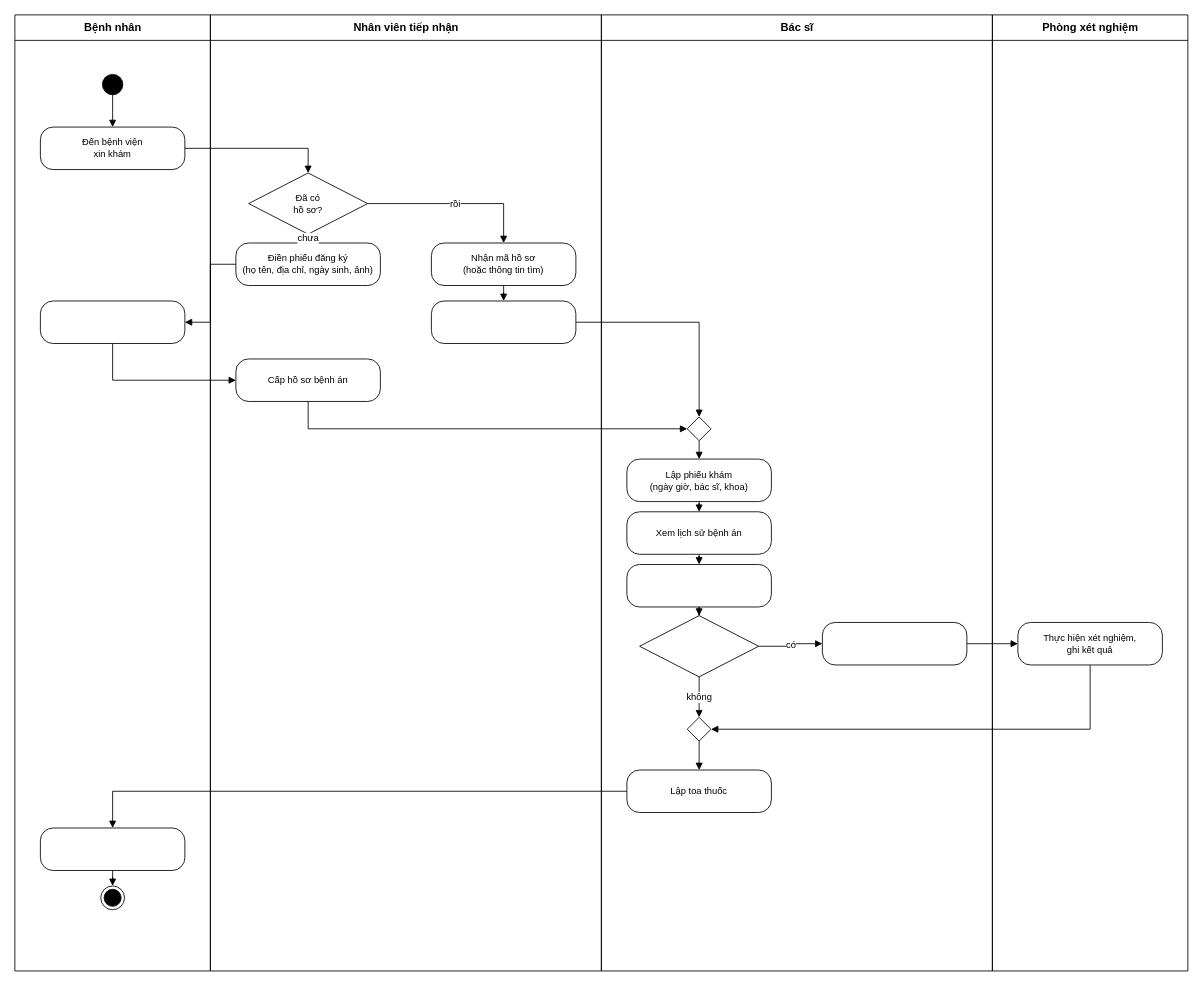
Some shapes in this 1203 by 986 pixel diagram are drawn without their labels. Here are the shapes that lost their labels. From the top down, the centre of each, then its label:
At point 112,321: "Đóng lệ phí năm".
At point 503,321: "Tra cứu hồ sơ".
At point 698,585: "Khám, ghi triệu chứng, thân nhiệt, huyết áp".
At point 699,646: "Cần xét nghiệm?".
At point 894,643: "Chỉ định xét nghiệm".
At point 112,848: "Nhận toa thuốc".
